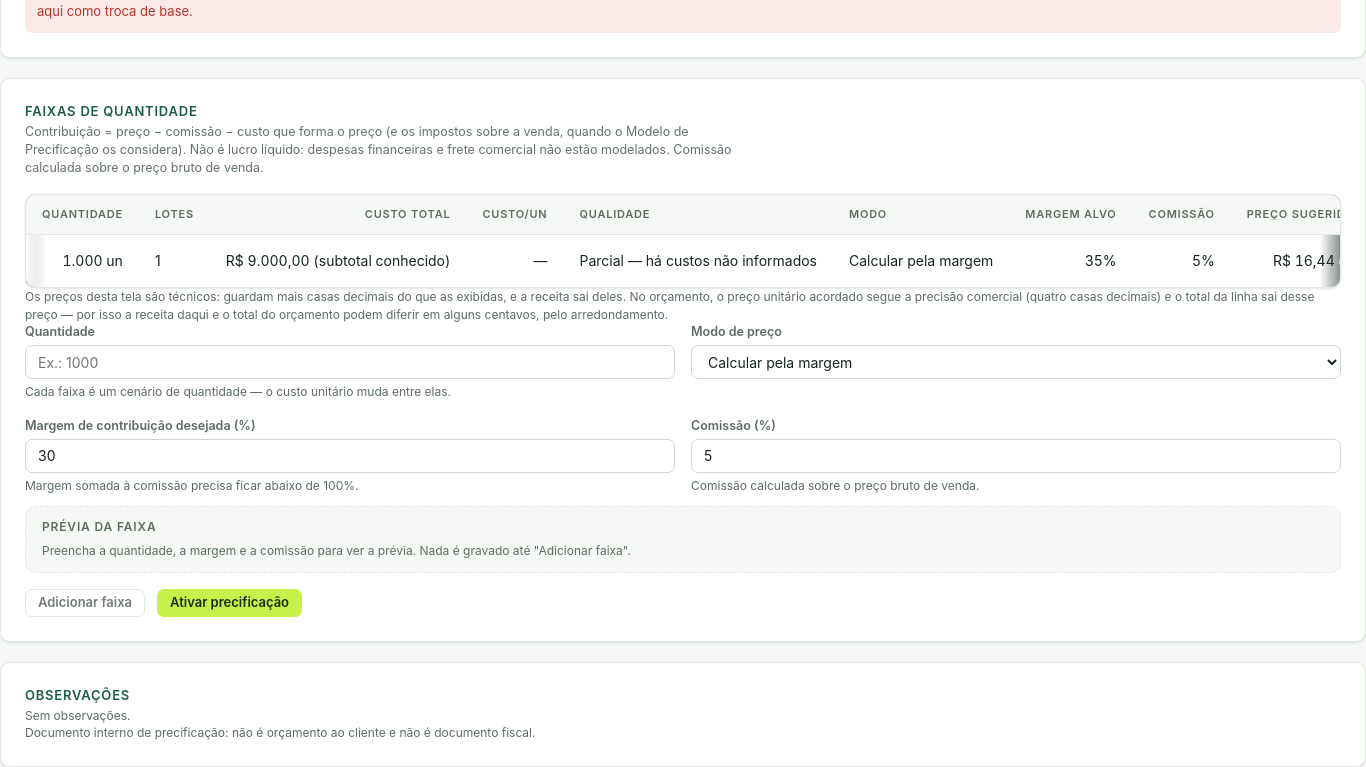
Test: Ativar precificação — a confirmação segue a autoridade do servidor › leitura sem a qualidade do preço: vale a do cálculo, como antes
(page scrolled)
Expected: the heading "Prévia da faixa" is shown, [42, 519, 157, 534]
Click the button "Ativar precificação". click: (230,603)
box: [157, 589, 302, 617]
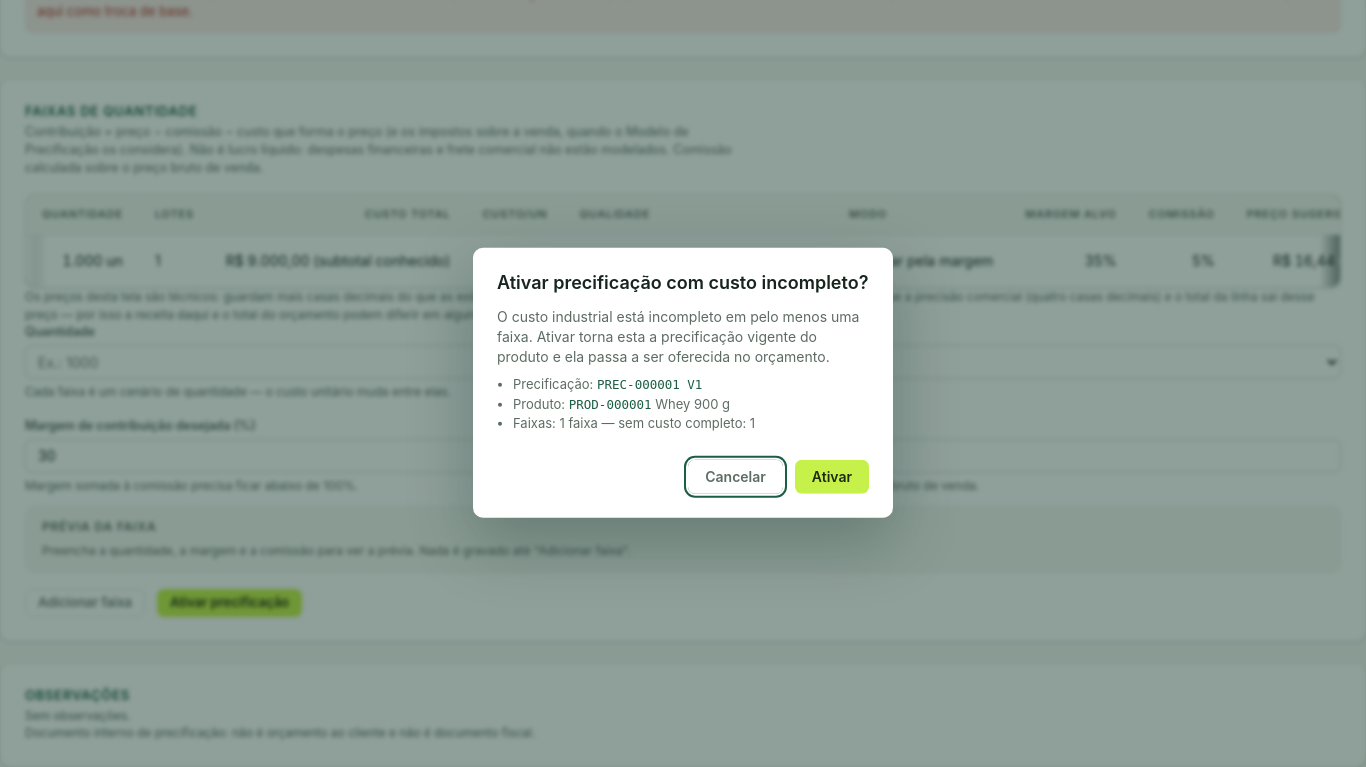
Expected: the heading "Ativar precificação com custo incompleto?" is shown, [497, 272, 869, 294]
